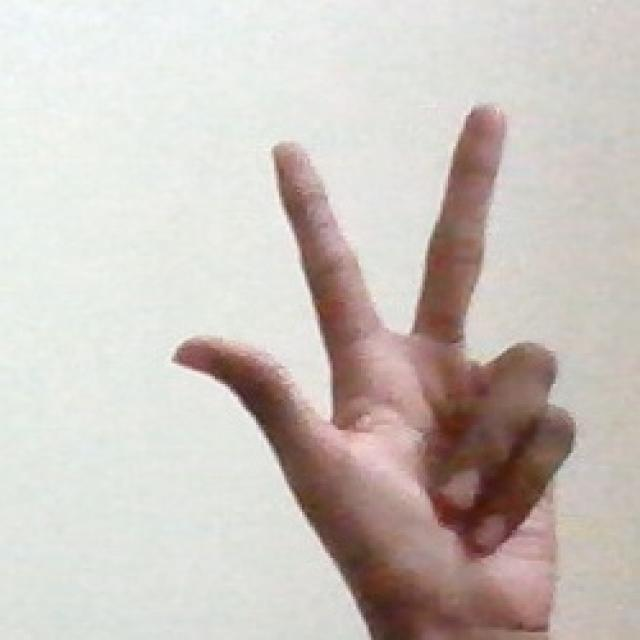Numeric-3: (173, 101, 559, 625)
